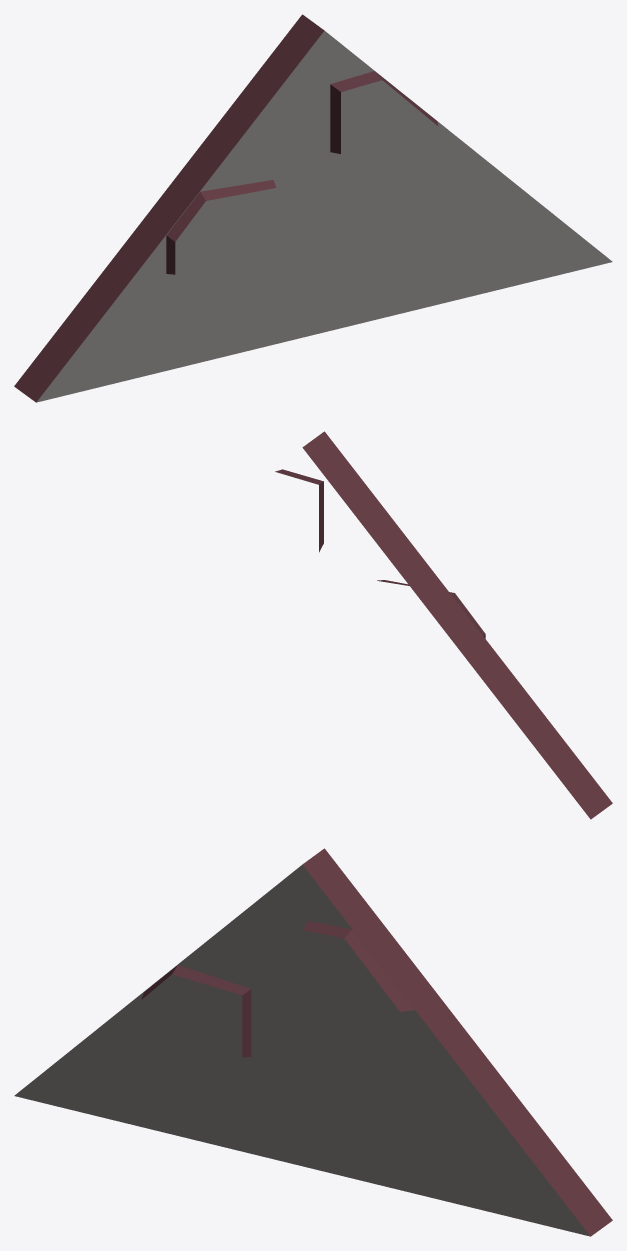
File: buildings-wall-stone-end-3x3m-c.glb
3 renders of one model, top to bottom at view 1: azimuth 30°, elevation 25°; view 2: azimuth 150°, elevation 25°; view 3: azimuth 330°, elevation 25°, orthographic.
Visible parts, largest first — view 1: wall-stone-end-3x3m-c; view 2: wall-stone-end-3x3m-c; view 3: wall-stone-end-3x3m-c.
Boxes of the visible parts, x1=… form: wall-stone-end-3x3m-c: x1=14, y1=14, x2=612, y2=402; wall-stone-end-3x3m-c: x1=275, y1=431, x2=612, y2=819; wall-stone-end-3x3m-c: x1=14, y1=848, x2=612, y2=1236.
Size of the model in its own units: 3 by 1.5 by 0.2712.
